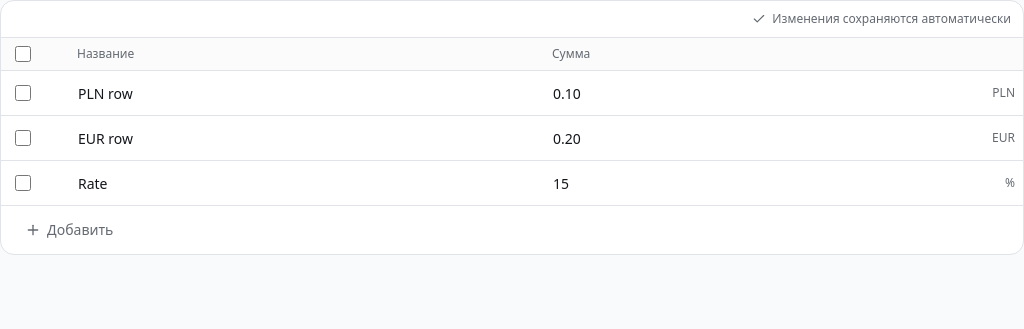
Scenario: keeps currencies separate and excludes percent fields from money totals
The width and height of the screenshot is (1024, 329).
Click the checkbox named "Выбрать все" at {"x": 23, "y": 54}, box left=15, top=46, right=31, bottom=62
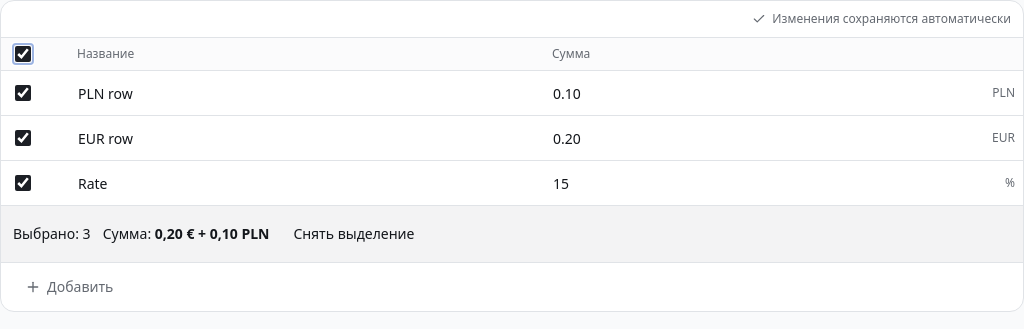
Check: the text "0,20 € + 0,10 PLN" is shown, box left=155, top=224, right=270, bottom=243
Check: the text "Выбрано: 3" is shown, box left=13, top=224, right=91, bottom=244
